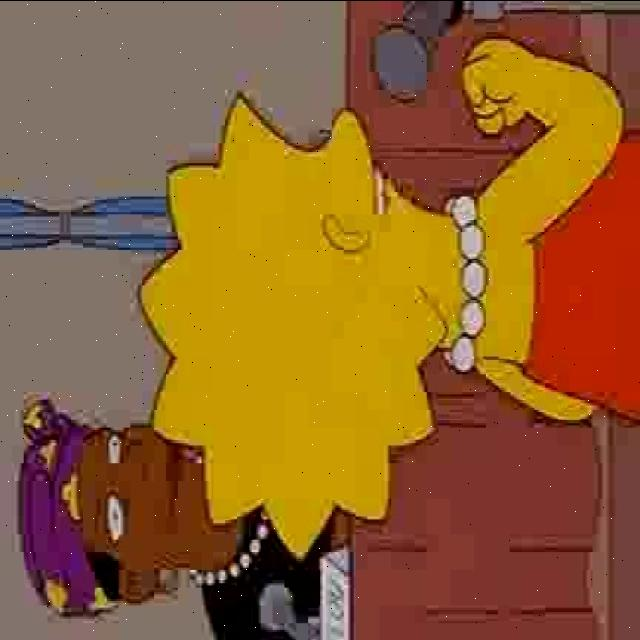Lisa Simpson: (136, 88, 488, 564)
